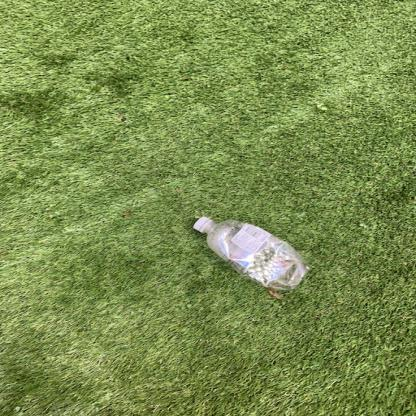trash: (193, 214, 313, 292)
